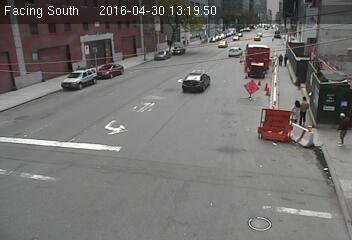neg: (44, 117, 70, 152), (147, 117, 170, 146), (107, 165, 128, 193), (247, 76, 265, 100), (194, 80, 210, 102), (112, 106, 127, 125)
pos: (326, 109, 351, 150), (291, 93, 318, 129), (287, 97, 304, 119), (281, 52, 292, 66), (275, 51, 285, 64)
